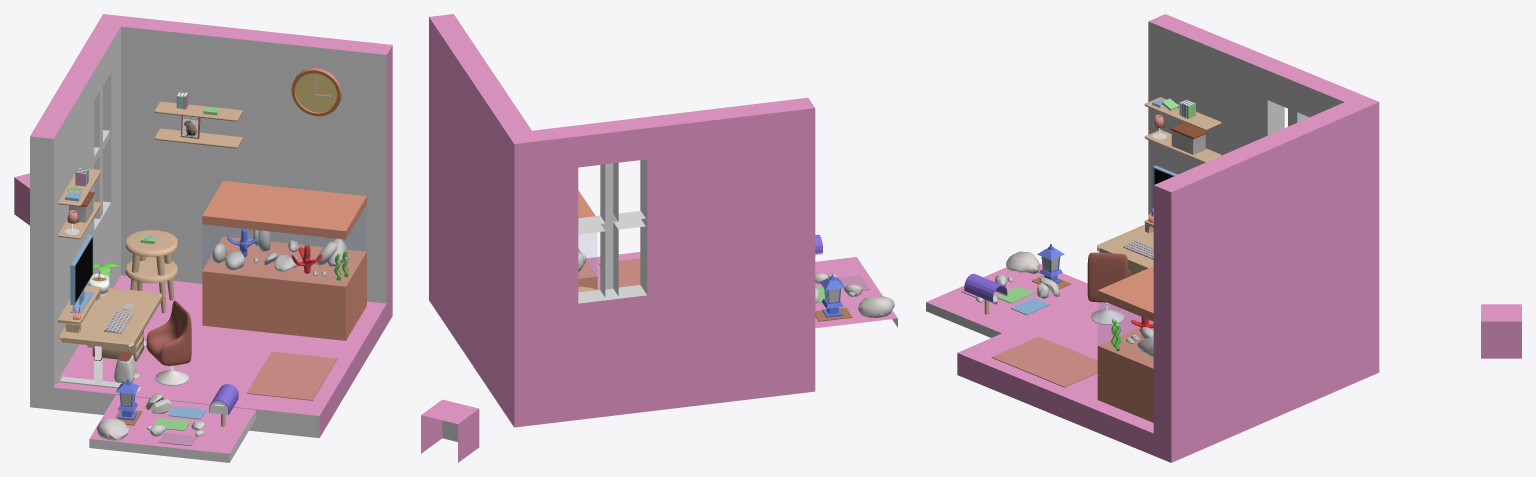
The model's file is roomv4.glb.
3 views of the same model, side by side, from view 1: azimuth 30°, elevation 25°; view 2: azimuth 150°, elevation 25°; view 3: azimuth 270°, elevation 25° (orthographic). The views are drawn at different scales.
Parts seen in each view (by area): view 1: body, aquarium, desks, mini floor, shelves, floor items, chair, table stuff, clock, computer, lamp, Cube (+3 smaller); view 2: body, Cube, mini floor, aquarium, lamp, rock4, floor items; view 3: body, aquarium, mini floor, floor items, shelves, Cube, chair, desks, mailbox, lamp, rock4.
Part boxes in pixels (x1,y1,x2,y2): body: [30, 14, 392, 438]; aquarium: [202, 181, 366, 340]; desks: [56, 230, 177, 391]; mini floor: [89, 395, 255, 462]; shelves: [58, 91, 242, 239]; floor items: [92, 331, 337, 400]; chair: [146, 300, 191, 365]; table stuff: [58, 235, 156, 333]; clock: [291, 68, 341, 116]; computer: [70, 234, 93, 312]; lamp: [115, 378, 142, 425]; Cube: [14, 173, 29, 225]; body: [429, 14, 815, 427]; Cube: [421, 399, 479, 462]; mini floor: [815, 257, 897, 328]; aquarium: [578, 190, 597, 289]; lamp: [815, 274, 852, 321]; rock4: [858, 296, 894, 317]; floor items: [599, 258, 640, 287]; body: [957, 14, 1379, 462]; aquarium: [1097, 266, 1153, 422]; mini floor: [926, 263, 1087, 337]; floor items: [991, 274, 1132, 387]; shelves: [1144, 97, 1221, 162]; Cube: [1481, 304, 1521, 358]; chair: [1087, 252, 1130, 302]; desks: [1097, 224, 1153, 274]; mailbox: [964, 273, 1007, 314]; lamp: [1031, 244, 1070, 289]; rock4: [1006, 251, 1039, 273].
Bounding box in the file's own units: 42.66 × 29.38 × 58.65.
Materials: 31 (1 with a texture image).
